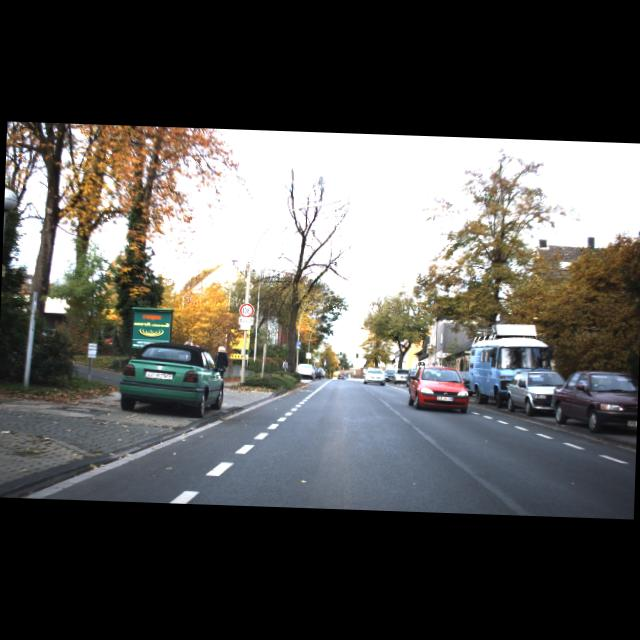prohibitory: (239, 302, 254, 317)
